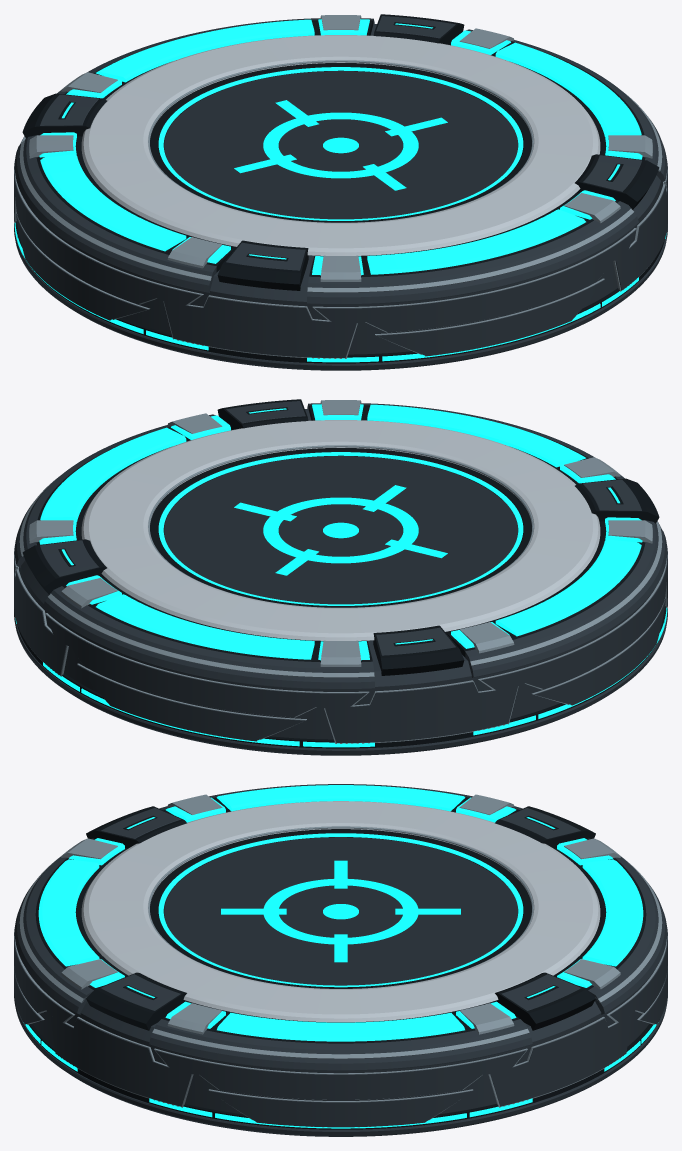
Rendered from Striker.glb.
3 renders of one model, top to bottom at view 1: azimuth 30°, elevation 25°; view 2: azimuth 150°, elevation 25°; view 3: azimuth 270°, elevation 25°, orthographic.
Parts seen in each view (by area): view 1: Broad brushed steel crown, Recessed center face, Striker angular side impact plate 2, Upper shoulder armor 4, Continuous structural core, Striker upper impact brow 3, Upper shoulder armor 3, Rounded lower bumper, Striker tapered lower impact plate 3, Top cyan window 4.2, Recessed circular black gasket, Top cyan window 3.2 (+37 smaller); view 2: Broad brushed steel crown, Recessed center face, Striker angular side impact plate 1, Upper shoulder armor 2, Continuous structural core, Striker upper impact brow 1, Upper shoulder armor 3, Rounded lower bumper, Striker tapered lower impact plate 1, Top cyan window 2.2, Recessed circular black gasket, Top cyan window 3.2 (+37 smaller); view 3: Broad brushed steel crown, Recessed center face, Upper shoulder armor 1, Striker upper impact brow 0, Continuous structural core, Striker angular side impact plate 0, Striker angular side impact plate 3, Striker tapered lower impact plate 0, Rounded lower bumper, Top cyan window 1.2, Recessed circular black gasket, Top cyan window 3.2 (+38 smaller).
Boxes of the visible parts, box(x1,y1,x2,y2) form: Broad brushed steel crown: box(81, 35, 600, 255); Recessed center face: box(163, 71, 518, 219); Striker angular side impact plate 2: box(164, 297, 356, 357); Upper shoulder armor 4: box(307, 201, 638, 304); Continuous structural core: box(27, 24, 662, 354); Striker upper impact brow 3: box(315, 230, 635, 332); Upper shoulder armor 3: box(14, 135, 216, 292); Rounded lower bumper: box(14, 222, 667, 370); Striker tapered lower impact plate 3: box(377, 280, 604, 356); Top cyan window 4.2: box(367, 209, 585, 274); Recessed circular black gasket: box(150, 63, 531, 222); Top cyan window 3.2: box(40, 154, 186, 251); Broad brushed steel crown: box(81, 420, 600, 640); Recessed center face: box(163, 456, 518, 604); Striker angular side impact plate 1: box(325, 682, 517, 742); Upper shoulder armor 2: box(43, 586, 374, 689); Continuous structural core: box(19, 409, 654, 739); Striker upper impact brow 1: box(46, 615, 366, 717); Upper shoulder armor 3: box(465, 520, 667, 677); Rounded lower bumper: box(14, 607, 667, 755); Striker tapered lower impact plate 1: box(77, 665, 304, 741); Top cyan window 2.2: box(96, 594, 314, 659); Recessed circular black gasket: box(150, 448, 531, 607); Top cyan window 3.2: box(495, 539, 641, 636); Broad brushed steel crown: box(81, 801, 600, 1022); Recessed center face: box(163, 837, 518, 985); Upper shoulder armor 1: box(149, 1019, 532, 1070); Striker upper impact brow 0: box(155, 1050, 526, 1099); Continuous structural core: box(26, 882, 655, 1114); Striker angular side impact plate 0: box(490, 1015, 631, 1106); Striker angular side impact plate 3: box(50, 1015, 191, 1106); Striker tapered lower impact plate 0: box(210, 1091, 471, 1127); Rounded lower bumper: box(14, 993, 667, 1136); Top cyan window 1.2: box(217, 1012, 464, 1041); Recessed circular black gasket: box(150, 829, 531, 988); Top cyan window 3.2: box(216, 785, 465, 811).
Bounding box in the file's own units: 0.827 × 0.134 × 0.827.
